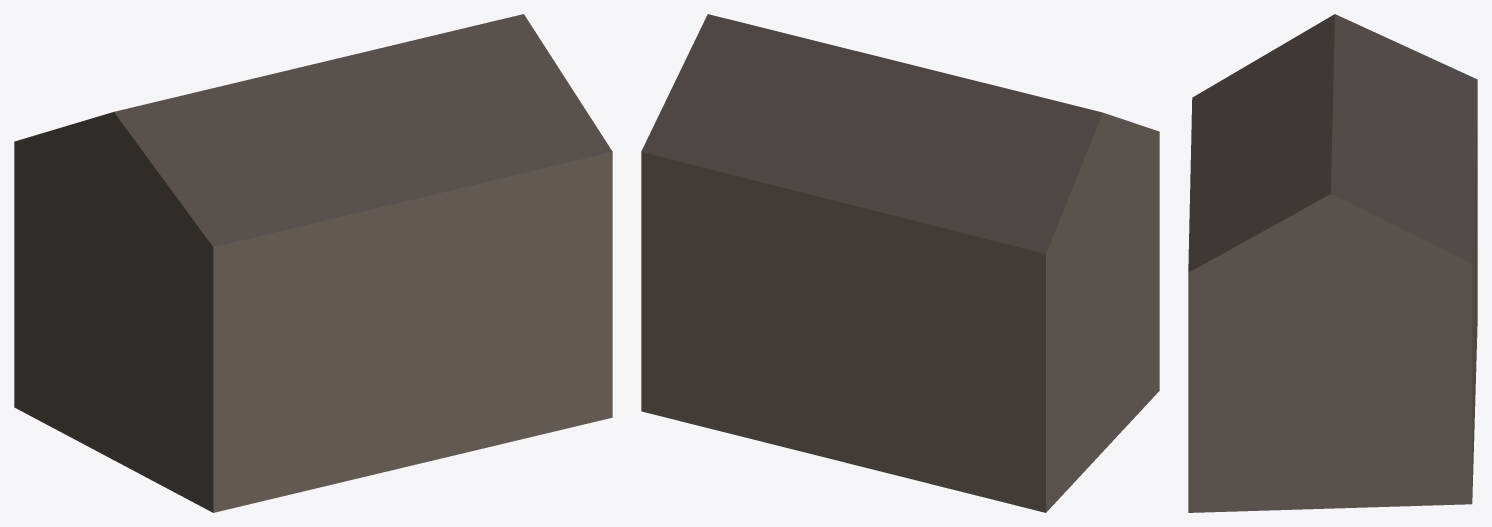
3 views of the same model, side by side, from view 1: azimuth 30°, elevation 25°; view 2: azimuth 150°, elevation 25°; view 3: azimuth 270°, elevation 25° (orthographic). The views are drawn at different scales.
Visible parts, largest first — view 1: HP-w1512965865; view 2: HP-w1512965865; view 3: HP-w1512965865.
Part boxes in pixels (x1,y1,x2,y2): HP-w1512965865: [14, 14, 612, 512]; HP-w1512965865: [641, 14, 1159, 512]; HP-w1512965865: [1188, 14, 1477, 512].
Size of the model in its own units: 10.36 by 7.86 by 6.55.
